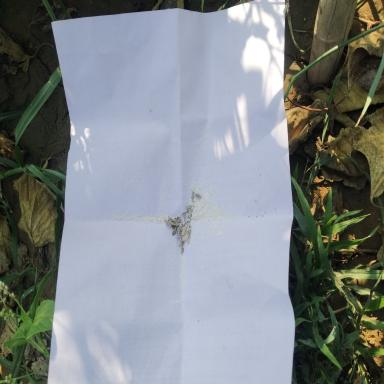pbw: (180, 221, 190, 237), (172, 225, 178, 236), (164, 219, 174, 225), (168, 216, 177, 222), (170, 224, 176, 230)
